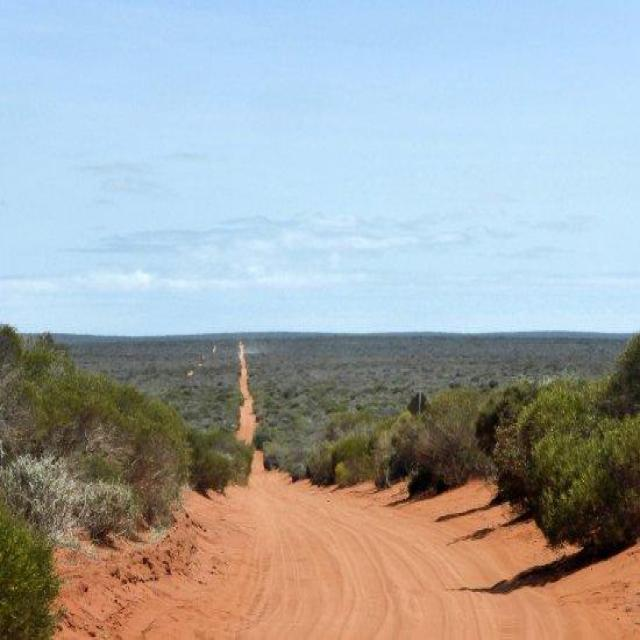cloud: (129, 190, 398, 306)
